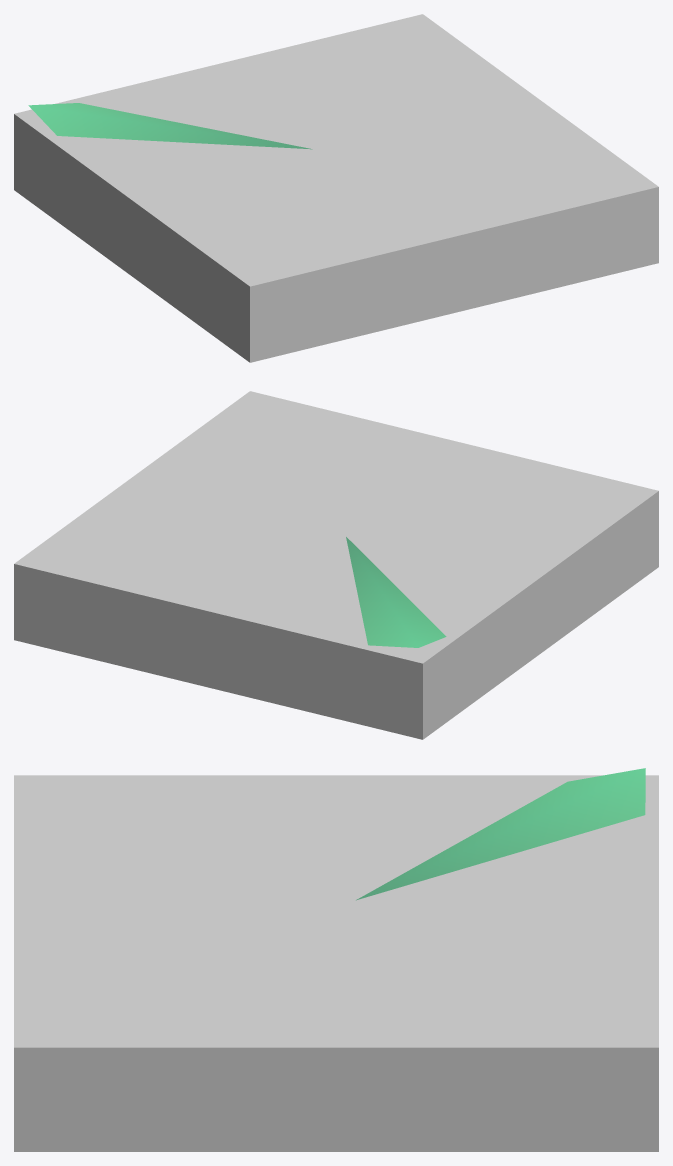
The model's file is grass_field_closetop.dae.
3 views of the same model, one above another, from view 1: azimuth 30°, elevation 25°; view 2: azimuth 150°, elevation 25°; view 3: azimuth 270°, elevation 25° (orthographic). The views are drawn at different scales.
Visible parts, largest first — view 1: Untitled, grass_field_large150; view 2: Untitled, grass_field_large150; view 3: Untitled, grass_field_large150.
Part boxes in pixels (x1,y1,x2,y2): Untitled: (14,14,658,362); grass_field_large150: (28,103,312,149); Untitled: (14,391,658,739); grass_field_large150: (346,537,446,647); Untitled: (14,775,658,1151); grass_field_large150: (356,768,645,900).
Size of the model in its own units: 1.96 by 1.96 by 0.3936.
